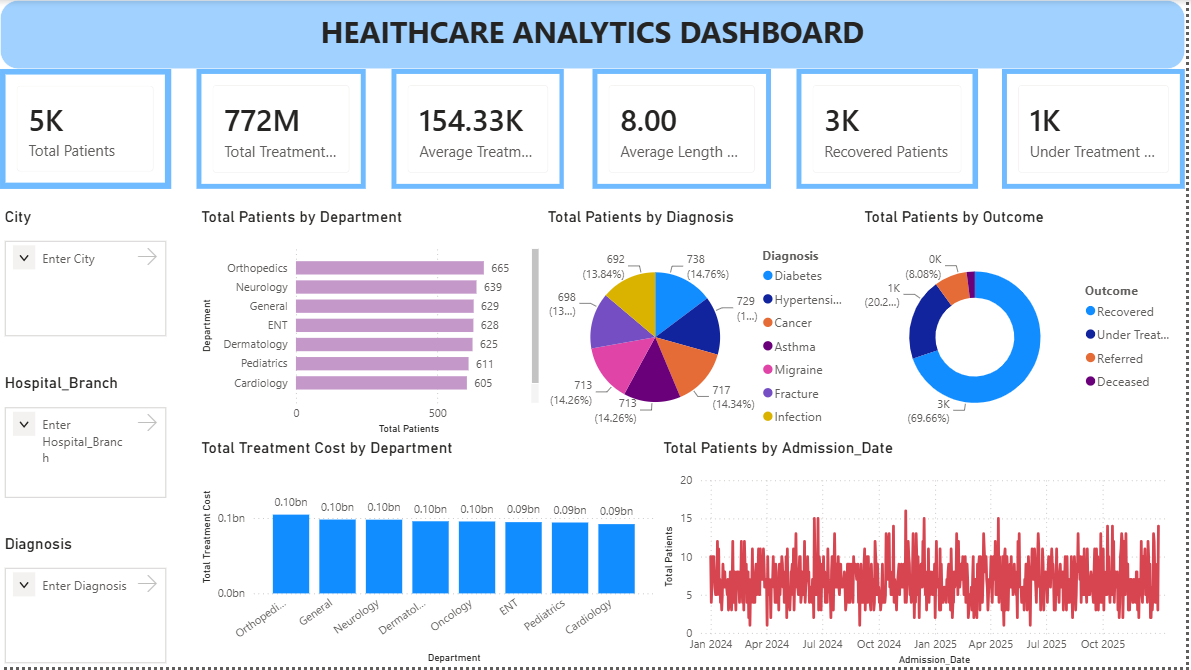

This screenshot's page, from the dashboard's own definition file:
{"tool":"powerbi","page":{"name":"Page 1","canvas":[1280,720],"ordinal":0},"visuals":[{"type":"textbox","box":[0,0,1279.2,74.5],"z":0},{"type":"cardVisual","fields":{"Data":["Sheet.Total Patients"]},"box":[0,74.5,184.6,129.5],"z":1000},{"type":"cardVisual","fields":{"Data":["Sheet.Total Treatment Cost"]},"box":[212.1,74.5,183,129.5],"z":2000},{"type":"cardVisual","fields":{"Data":["Sheet.Average Treatment Cost"]},"box":[422.6,74.5,186.2,129.5],"z":3000},{"type":"cardVisual","fields":{"Data":["Sheet.Average Length of Stay"]},"box":[639.6,74.5,192.7,129.5],"z":4000},{"type":"cardVisual","fields":{"Data":["Sheet.Recovered Patients"]},"box":[859.8,74.5,195.9,129.5],"z":5000},{"type":"cardVisual","fields":{"Data":["Sheet.Under Treatment Patients"]},"box":[1081.6,74.5,197.5,129.5],"z":6000},{"type":"clusteredBarChart","fields":{"Category":["Sheet.Department"],"Y":["Sheet.Total Patients"]},"box":[212.1,223.5,374,249.4],"z":7000},{"type":"pieChart","fields":{"Category":["Sheet.Diagnosis"],"Y":["Sheet.Total Patients"]},"box":[586.2,223.5,341.7,249.4],"z":8000},{"type":"donutChart","fields":{"Category":["Sheet.Outcome"],"Y":["Sheet.Total Patients"]},"box":[927.8,223.5,351.4,249.4],"z":9000},{"type":"columnChart","fields":{"Category":["Sheet.Department"],"Y":["Sheet.Total Treatment Cost"]},"box":[212.1,472.8,498.7,247.7],"z":10000},{"type":"lineChart","fields":{"Y":["Sheet.Total Patients"],"Category":["Sheet.Admission_Date"]},"box":[710.8,472.8,568.3,249.4],"z":11000},{"type":"textSlicer","fields":{"Values":["Sheet.City"]},"box":[0,223.5,184.6,144.1],"z":12000},{"type":"textSlicer","fields":{"Values":["Sheet.Hospital_Branch"]},"box":[0,403.2,184.6,139.3],"z":13000},{"type":"textSlicer","fields":{"Values":["Sheet.Diagnosis"]},"box":[0,576.4,184.6,144.1],"z":14000}]}

Visuals, with their boxes in screenshot pixels (x1, y1, x2, y2), scaled from the page's 1280x720 canvas onto the 1191x670 screenshot:
textbox: crop(0, 0, 1190, 69)
cardVisual - Sheet.Total Patients: crop(0, 69, 172, 190)
cardVisual - Sheet.Total Treatment Cost: crop(197, 69, 368, 190)
cardVisual - Sheet.Average Treatment Cost: crop(393, 69, 566, 190)
cardVisual - Sheet.Average Length of Stay: crop(595, 69, 774, 190)
cardVisual - Sheet.Recovered Patients: crop(800, 69, 982, 190)
cardVisual - Sheet.Under Treatment Patients: crop(1006, 69, 1190, 190)
clusteredBarChart - Sheet.Department x Sheet.Total Patients: crop(197, 208, 545, 440)
pieChart - Sheet.Diagnosis x Sheet.Total Patients: crop(545, 208, 863, 440)
donutChart - Sheet.Outcome x Sheet.Total Patients: crop(863, 208, 1190, 440)
columnChart - Sheet.Department x Sheet.Total Treatment Cost: crop(197, 440, 661, 669)
lineChart - Sheet.Total Patients x Sheet.Admission_Date: crop(661, 440, 1190, 669)
textSlicer - Sheet.City: crop(0, 208, 172, 342)
textSlicer - Sheet.Hospital_Branch: crop(0, 375, 172, 505)
textSlicer - Sheet.Diagnosis: crop(0, 536, 172, 669)
